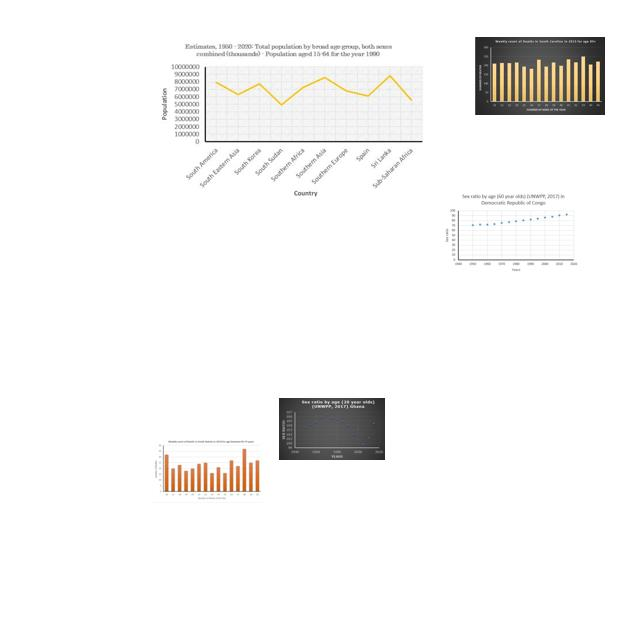Graph: (156, 36, 427, 199), (442, 191, 580, 274), (475, 37, 605, 115), (152, 437, 263, 503), (279, 398, 385, 460)
